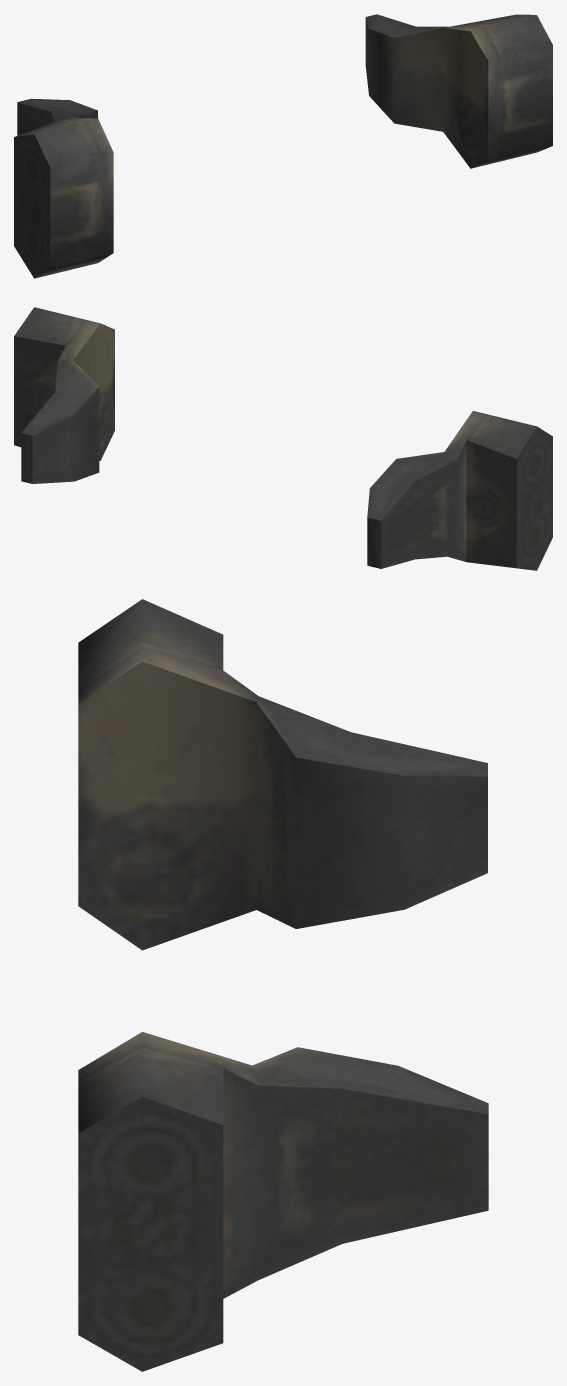
The picture shows the model from 3 angles, top to bottom: view 1: azimuth 30°, elevation 25°; view 2: azimuth 150°, elevation 25°; view 3: azimuth 270°, elevation 25°; orthographic projection. The views are drawn at different scales.
Parts seen in each view (by area): view 1: set_0_group_0; view 2: set_0_group_0; view 3: set_0_group_0.
Part boxes in pixels (<box>): set_0_group_0: <box>14,14,552,278</box>; set_0_group_0: <box>14,307,552,570</box>; set_0_group_0: <box>78,599,488,1371</box>.
Bounding box in the file's own units: 0.4197 × 0.1153 × 0.1483.
1 material, 1 textured.
